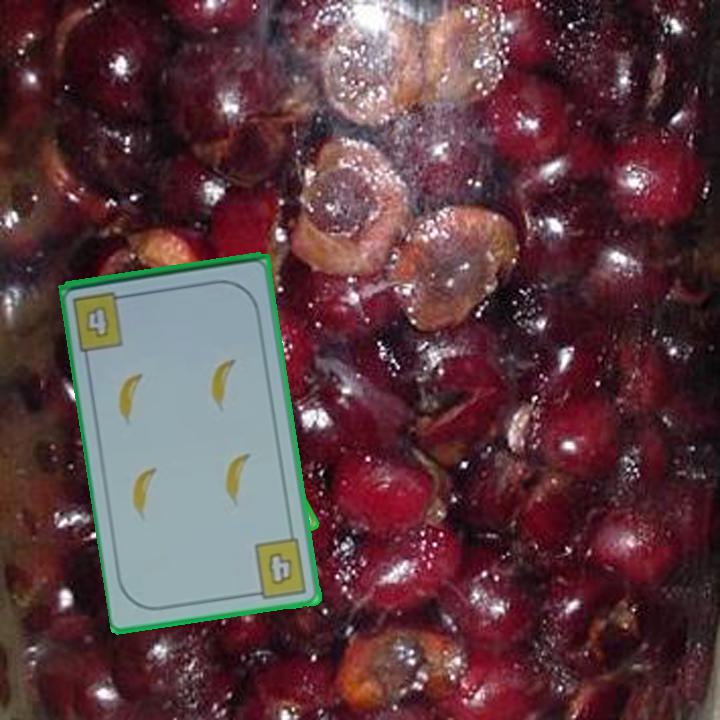4b: (69, 287, 135, 354), (247, 534, 310, 601)
